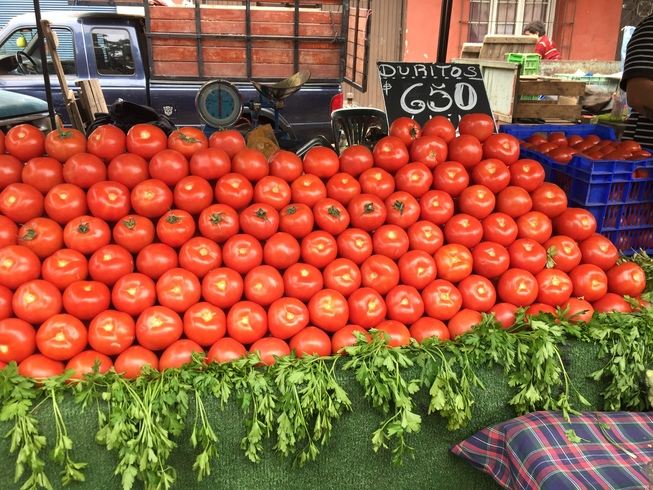precio: (380, 59, 504, 144)
